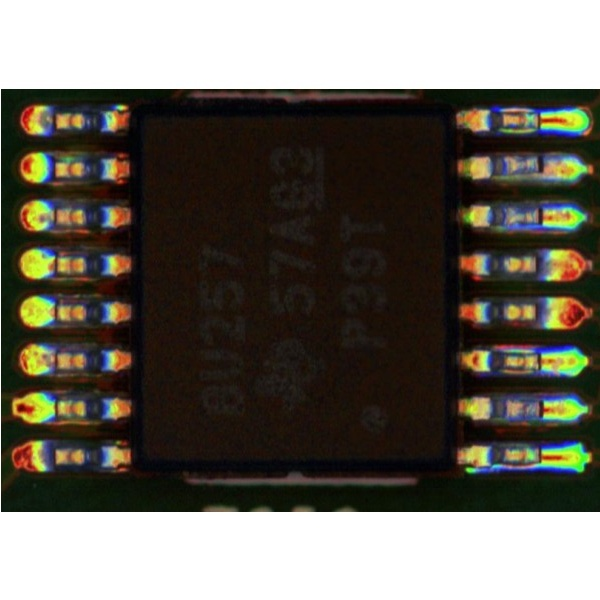Bad_podu: (46, 257, 64, 275), (533, 400, 549, 419), (48, 352, 63, 370), (532, 159, 551, 173), (532, 209, 547, 225), (47, 306, 63, 321), (532, 111, 545, 129), (532, 451, 548, 464), (532, 355, 545, 369)
Bad_qiaojiao: (462, 466, 537, 475)
